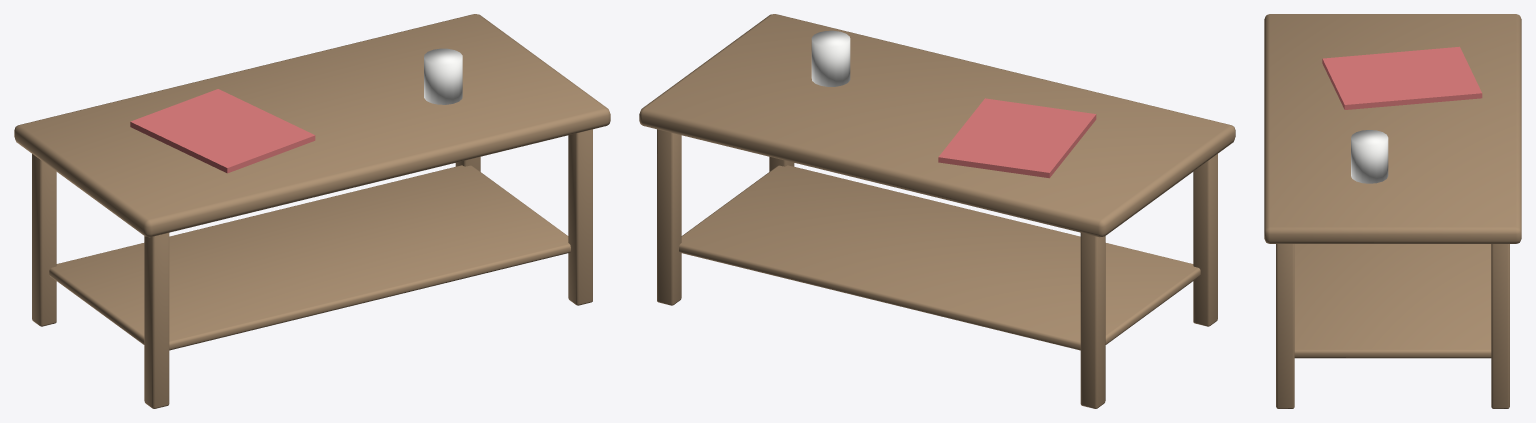
The model's file is coffee_table.glb.
3 renders of one model, left to right at view 1: azimuth 30°, elevation 25°; view 2: azimuth 150°, elevation 25°; view 3: azimuth 270°, elevation 25°, orthographic. The views are drawn at different scales.
Parts seen in each view (by area): view 1: Cube, Cube.001, Cube.006, Cube.002, Cube.004, Cube.003, Cylinder; view 2: Cube, Cube.001, Cube.006, Cube.003, Cube.005, Cube.002, Cylinder; view 3: Cube, Cube.001, Cube.006, Cube.004, Cube.005, Cylinder.
Part boxes in pixels (x1,y1,x2,y2): Cube: [14, 14, 610, 237]; Cube.001: [49, 165, 570, 350]; Cube.006: [130, 89, 315, 173]; Cube.002: [144, 233, 169, 408]; Cube.004: [568, 129, 592, 305]; Cube.003: [32, 154, 56, 326]; Cylinder: [424, 48, 462, 104]; Cube: [639, 14, 1235, 237]; Cube.001: [679, 165, 1200, 350]; Cube.006: [938, 98, 1096, 178]; Cube.003: [1080, 233, 1105, 408]; Cube.005: [657, 129, 681, 305]; Cube.002: [1193, 154, 1217, 326]; Cylinder: [811, 30, 850, 86]; Cube: [1264, 14, 1521, 243]; Cube.001: [1294, 244, 1491, 358]; Cube.006: [1322, 46, 1482, 109]; Cube.004: [1276, 244, 1294, 408]; Cube.005: [1491, 244, 1509, 408]; Cylinder: [1351, 130, 1388, 183].
Size of the model in its own units: 1.1 by 0.53 by 0.55.
